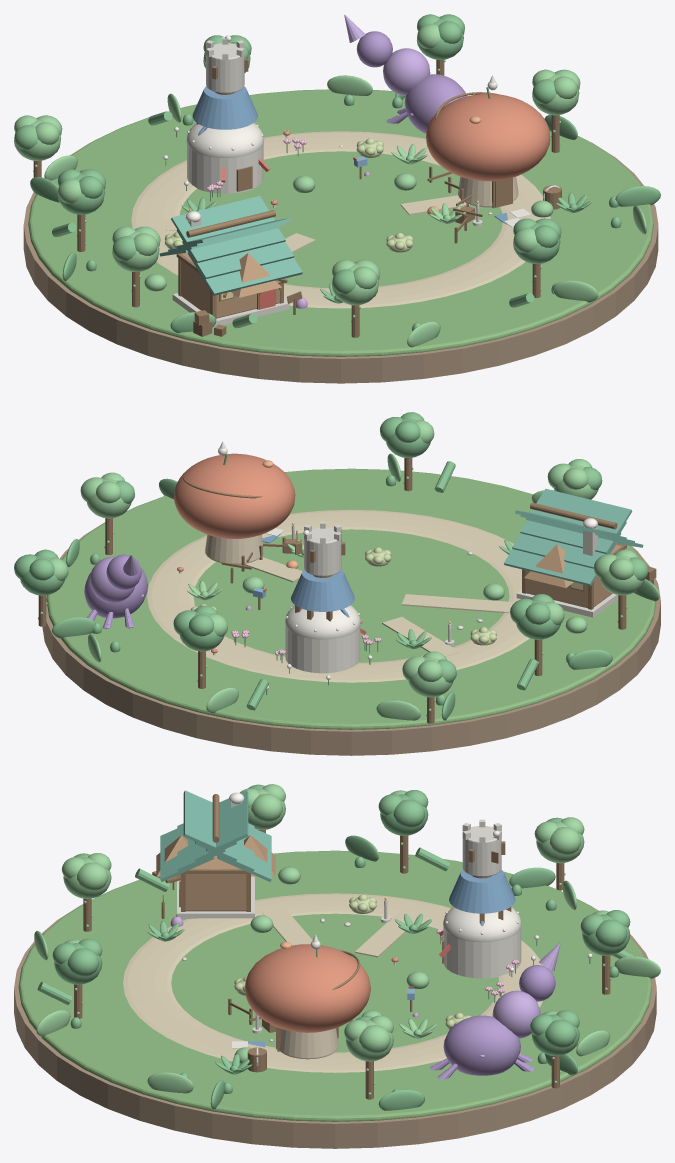
File: village_core3.glb
The picture shows the model from 3 angles, top to bottom: view 1: azimuth 30°, elevation 25°; view 2: azimuth 150°, elevation 25°; view 3: azimuth 270°, elevation 25°; orthographic projection. The views are drawn at different scales.
Visible parts, largest first — view 1: terrain_grass, terrain_dirt, path_ring, mushroom_cap, tower_pot, tower_cauldron, tower_pot_shoulder, purple_b1, cottage_roof_l3, cottage_wall, purple_b2, tower_stone (+20 smaller); view 2: terrain_grass, terrain_dirt, path_ring, mushroom_cap, tower_pot, tower_cauldron, cottage_roof_r3, tower_pot_shoulder, tower_stone, mushroom_stem, cottage_roof_r0, path_spoke_200 (+22 smaller); view 3: terrain_grass, terrain_dirt, path_ring, mushroom_cap, purple_b1, tower_pot, cottage_wall, tower_cauldron, tower_pot_shoulder, tower_stone, purple_b2, mushroom_stem (+32 smaller).
Part boxes in pixels (x1=…): terrain_grass: x1=28, y1=89, x2=653, y2=356; terrain_dirt: x1=23, y1=142, x2=658, y2=383; path_ring: x1=131, y1=131, x2=550, y2=308; mushroom_cap: x1=426, y1=93, x2=550, y2=181; tower_pot: x1=187, y1=144, x2=263, y2=193; tower_cauldron: x1=192, y1=86, x2=257, y2=129; tower_pot_shoulder: x1=186, y1=123, x2=264, y2=157; purple_b1: x1=404, y1=74, x2=466, y2=133; cottage_roof_l3: x1=171, y1=196, x2=274, y2=246; cottage_wall: x1=181, y1=252, x2=279, y2=318; purple_b2: x1=383, y1=48, x2=430, y2=95; tower_stone: x1=206, y1=43, x2=244, y2=93; terrain_grass: x1=46, y1=468, x2=656, y2=729; terrain_dirt: x1=42, y1=522, x2=660, y2=755; path_ring: x1=147, y1=509, x2=529, y2=682; mushroom_cap: x1=174, y1=453, x2=295, y2=538; tower_pot: x1=285, y1=625, x2=360, y2=673; tower_cauldron: x1=291, y1=569, x2=354, y2=611; cottage_roof_r3: x1=531, y1=488, x2=632, y2=538; tower_pot_shoulder: x1=285, y1=605, x2=360, y2=639; tower_stone: x1=304, y1=527, x2=341, y2=576; mushroom_stem: x1=205, y1=534, x2=263, y2=564; cottage_roof_r0: x1=504, y1=543, x2=615, y2=585; path_spoke_200: x1=401, y1=594, x2=514, y2=612; terrain_grass: x1=18, y1=850, x2=651, y2=1121; terrain_dirt: x1=14, y1=904, x2=656, y2=1148; path_ring: x1=123, y1=893, x2=542, y2=1072; mushroom_cap: x1=244, y1=944, x2=370, y2=1032; purple_b1: x1=443, y1=1015, x2=520, y2=1075; tower_pot: x1=443, y1=926, x2=521, y2=978; cottage_wall: x1=185, y1=856, x2=246, y2=911; tower_cauldron: x1=449, y1=869, x2=515, y2=913; tower_pot_shoulder: x1=443, y1=906, x2=521, y2=942; tower_stone: x1=462, y1=826, x2=501, y2=876; purple_b2: x1=492, y1=990, x2=540, y2=1038; mushroom_stem: x1=279, y1=1028, x2=338, y2=1059.
Bounding box in the file's own units: 28 × 7.96 × 28.19.
